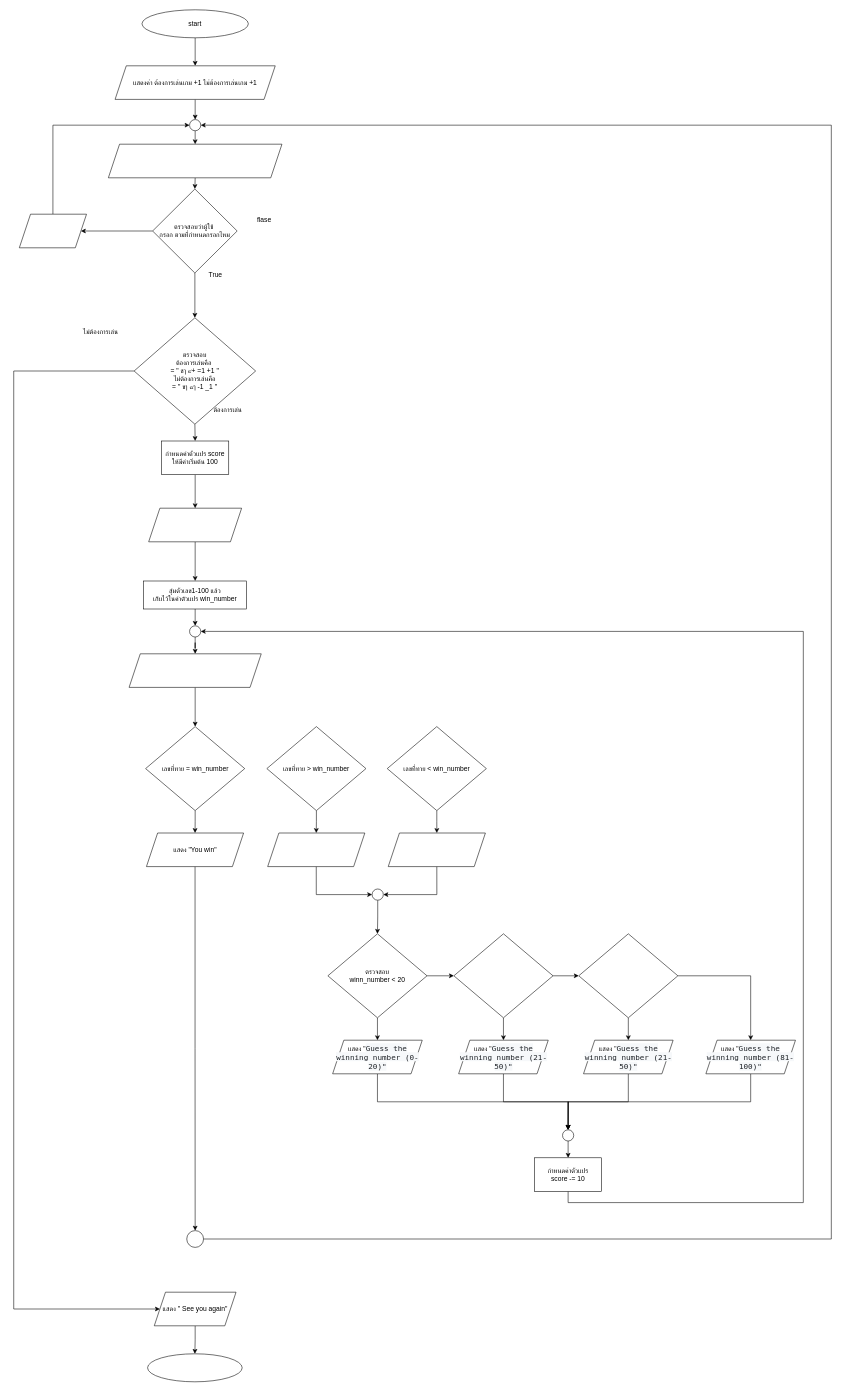
Some shapes in this 846 by 1392 pixel diagram are drawn without their labels. Here are the shapes that lost their labels. From the top down, the box of each, then its label:
(108, 144, 282, 178): รับค่า " +1 , =1 , -1 , _1 , ชๅ , ๙+ , ขๅ , ๘ๅ'
(19, 214, 87, 248): กรุณกรอกอีกครับ
(148, 508, 242, 542): แสดง score ล่าสุด
(129, 653, 261, 687): แสดงและรับค่า กรอกตัวเลขที่คุณทาย =
(267, 832, 365, 867): แสดง " Sorry, the winning number is LOWER"
(388, 832, 485, 867): แสดง " Sorry, the winning number is HIGHER"
(453, 933, 553, 1018): ตรวจสอบ 21 > winn_number < 50
(578, 933, 678, 1018): ตรวจสอบ 51 > winn_number < 80
(147, 1353, 242, 1382): END
